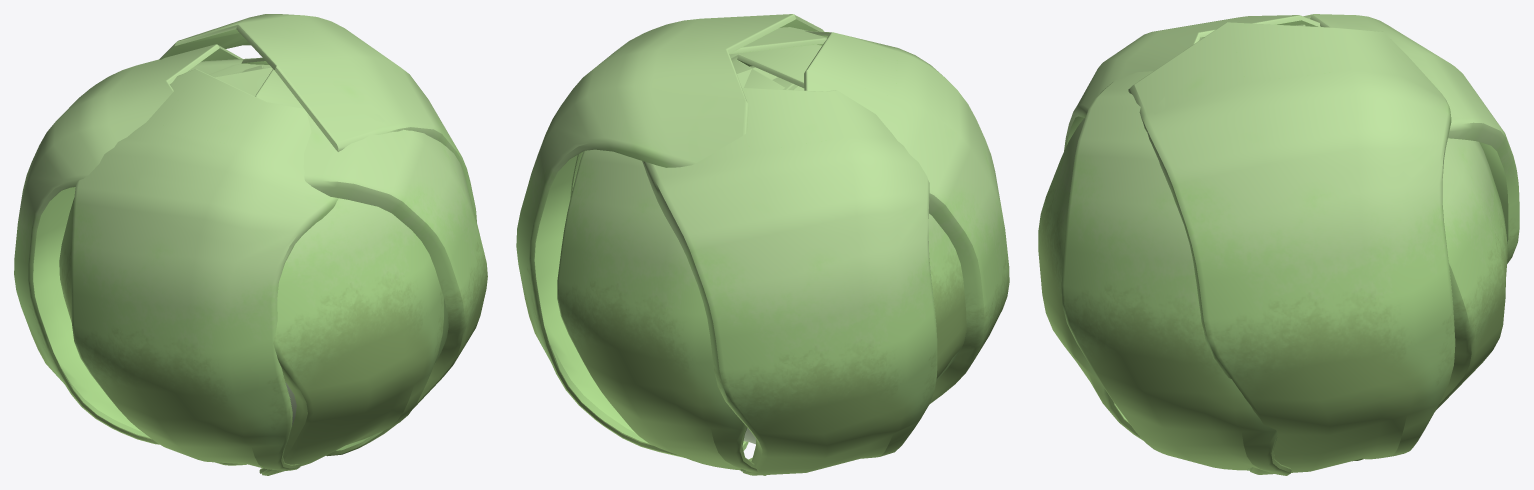
File: lettuce 1.fbx
3 renders of one model, left to right at view 1: azimuth 30°, elevation 25°; view 2: azimuth 150°, elevation 25°; view 3: azimuth 270°, elevation 25°, orthographic. The views are drawn at different scales.
Visible parts, largest first — view 1: pCube458, pCube459, pCube456, pCube455, pCube454, pCube460, pCube457; view 2: pCube456, pCube457, pCube454, pCube458, pCube460, pCube459, pCube455; view 3: pCube454, pCube455, pCube457, pCube456, pCube459, pCube458.
Part boxes in pixels (x1,y1,x2,y2): pCube458: [71, 69, 338, 470]; pCube459: [215, 67, 444, 475]; pCube456: [14, 44, 242, 444]; pCube455: [241, 57, 487, 456]; pCube454: [159, 14, 476, 221]; pCube460: [59, 65, 263, 465]; pCube457: [186, 58, 271, 74]; pCube456: [642, 88, 937, 475]; pCube457: [557, 59, 784, 475]; pCube454: [516, 14, 824, 457]; pCube458: [804, 30, 1009, 404]; pCube460: [737, 67, 966, 379]; pCube459: [729, 44, 821, 88]; pCube455: [570, 27, 827, 198]; pCube454: [1128, 22, 1455, 474]; pCube455: [1061, 37, 1291, 475]; pCube457: [1352, 138, 1507, 461]; pCube456: [1303, 14, 1519, 263]; pCube459: [1038, 24, 1305, 440]; pCube458: [1064, 15, 1320, 151].
Bounding box in the file's own units: 0.2289 × 0.2175 × 0.2229.
